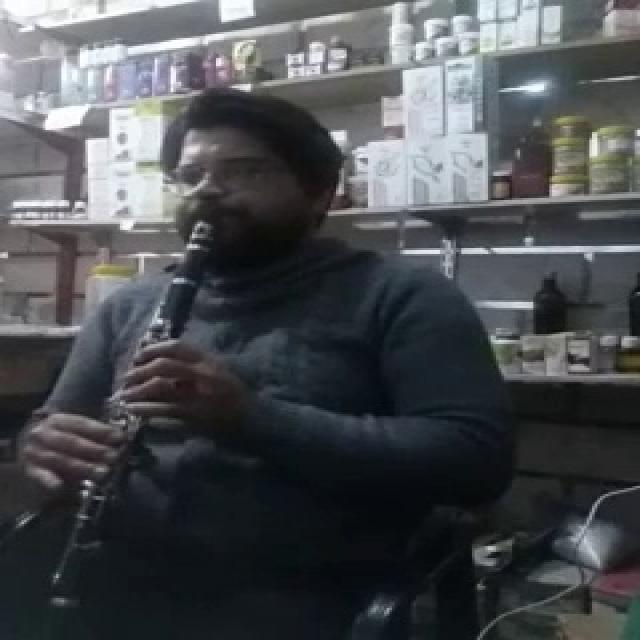Clarinet: (20, 209, 249, 630)
